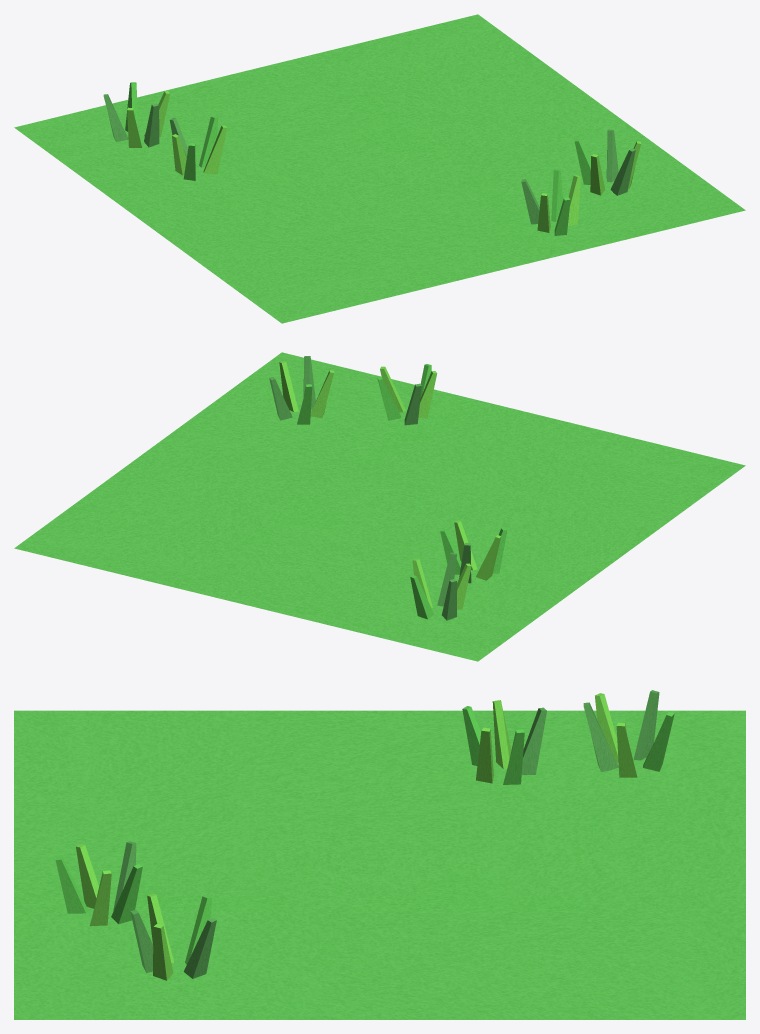
File: park_3.fbx
3 views of the same model, one above another, from view 1: azimuth 30°, elevation 25°; view 2: azimuth 150°, elevation 25°; view 3: azimuth 270°, elevation 25° (orthographic). The views are drawn at different scales.
Visible parts, largest first — view 1: park_green.012, grass.024, grass.023, grass.022, grass.021; view 2: park_green.012, grass.023, grass.021, grass.024, grass.022; view 3: park_green.012, grass.021, grass.024, grass.022, grass.023.
Part boxes in pixels (left/top/right/bottom): park_green.012: left=14, top=14, right=745, bottom=323; grass.024: left=521, top=169, right=580, bottom=235; grass.023: left=574, top=129, right=641, bottom=195; grass.022: left=169, top=116, right=227, bottom=180; grass.021: left=103, top=82, right=169, bottom=147; park_green.012: left=14, top=352, right=745, bottom=661; grass.023: left=269, top=356, right=333, bottom=424; grass.021: left=410, top=552, right=471, bottom=620; grass.024: left=377, top=364, right=437, bottom=425; grass.022: left=440, top=520, right=507, bottom=583; park_green.012: left=14, top=710, right=745, bottom=1019; grass.021: left=583, top=690, right=674, bottom=777; grass.024: left=55, top=841, right=142, bottom=926; grass.022: left=462, top=700, right=546, bottom=784; grass.023: left=130, top=893, right=216, bottom=980.
Bounding box in the file's own units: 2 × 0.2174 × 2.
2 materials, 2 textured.
